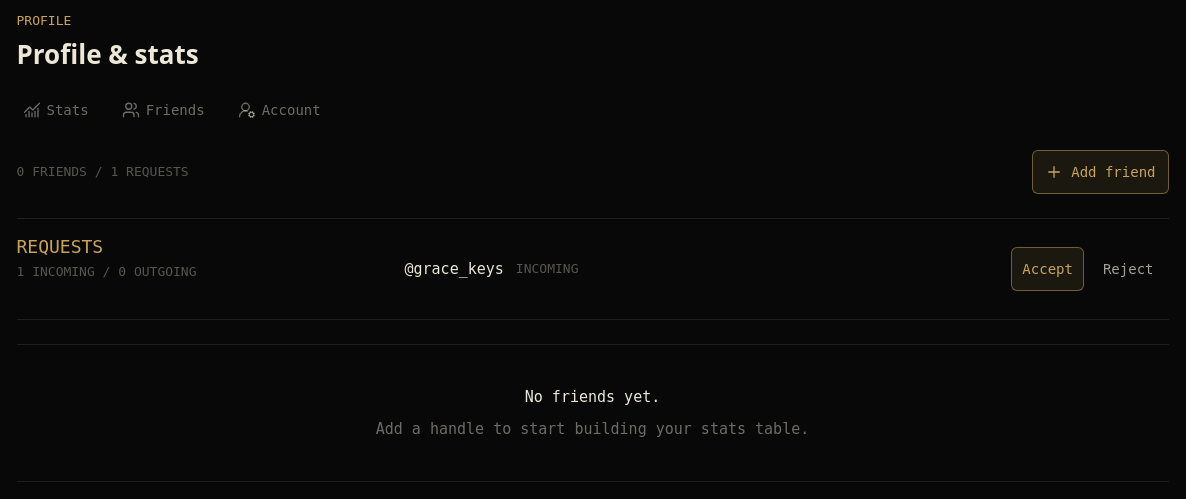
Scenario: Profile friends page › rejects incoming friend requests and refreshes lists
The width and height of the screenshot is (1186, 499).
Expected: the link "@grace_keys" is shown, [404, 257, 504, 281]
Step 1. Click the button with aria-label "Reject request @grace_keys" → (1128, 269), box [1092, 247, 1164, 291]
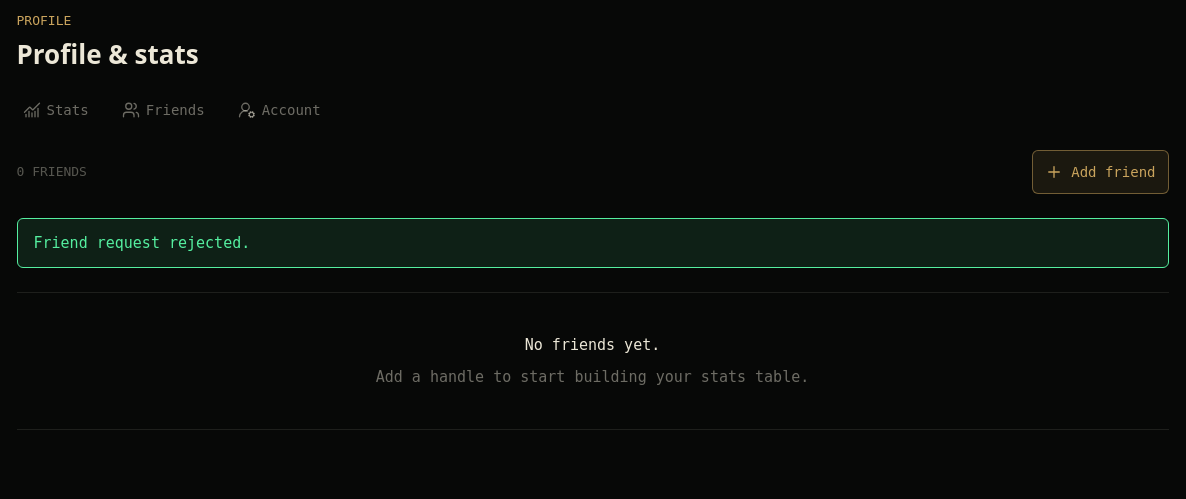
Expected: the text "Friend request rejected." is shown, [16, 218, 1168, 268]
